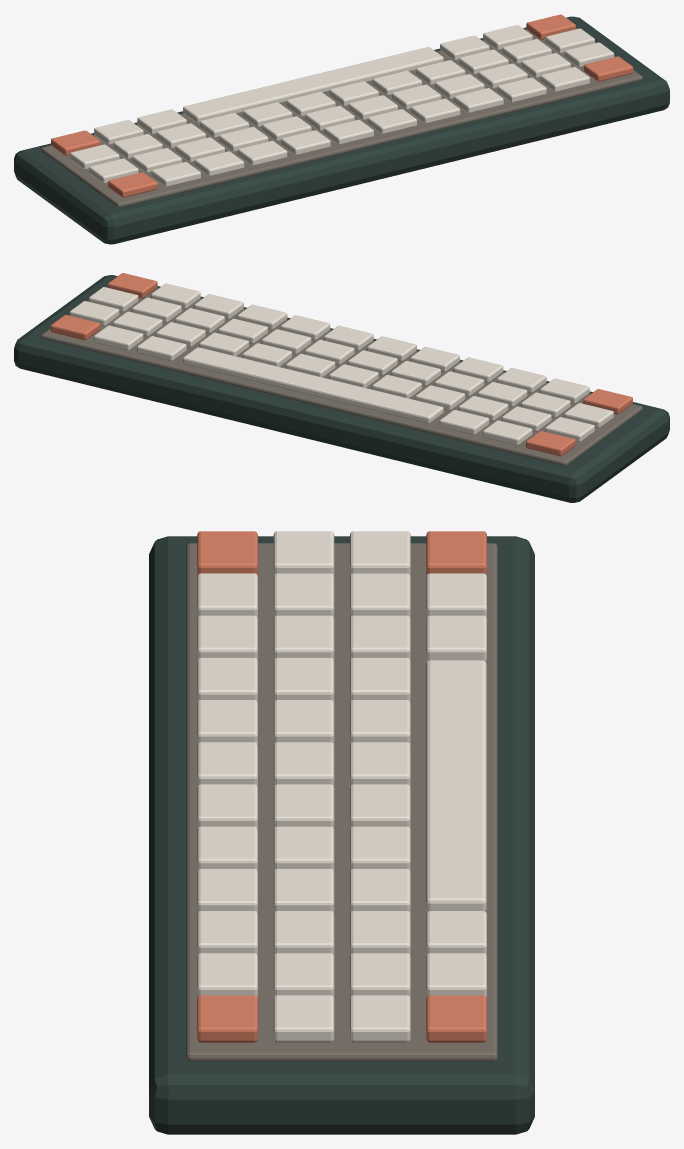
The model's file is keyboard_contact.glb.
3 views of the same model, one above another, from view 1: azimuth 30°, elevation 25°; view 2: azimuth 150°, elevation 25°; view 3: azimuth 270°, elevation 25° (orthographic). The views are drawn at different scales.
Parts seen in each view (by area): view 1: Joined Warm ivory keycaps, Joined Deep slate shell, Joined Warm shell edge, Joined Task accent keys; view 2: Joined Warm ivory keycaps, Joined Deep slate shell, Joined Warm shell edge, Joined Task accent keys; view 3: Joined Warm ivory keycaps, Joined Deep slate shell, Joined Warm shell edge, Joined Task accent keys.
Boxes of the visible parts, x1,y1,x2,y2 form: Joined Warm ivory keycaps: (70,25,614,187); Joined Deep slate shell: (14,16,669,244); Joined Warm shell edge: (41,28,642,207); Joined Task accent keys: (51,14,633,197); Joined Warm ivory keycaps: (69,283,613,445); Joined Deep slate shell: (14,275,669,502); Joined Warm shell edge: (41,286,642,466); Joined Task accent keys: (50,273,632,456); Joined Warm ivory keycaps: (197,531,486,1042); Joined Deep slate shell: (149,536,534,1134); Joined Warm shell edge: (186,543,497,1061); Joined Task accent keys: (197,531,486,1042).
Size of the model in its own units: 0.95 by 0.069 by 0.28.
